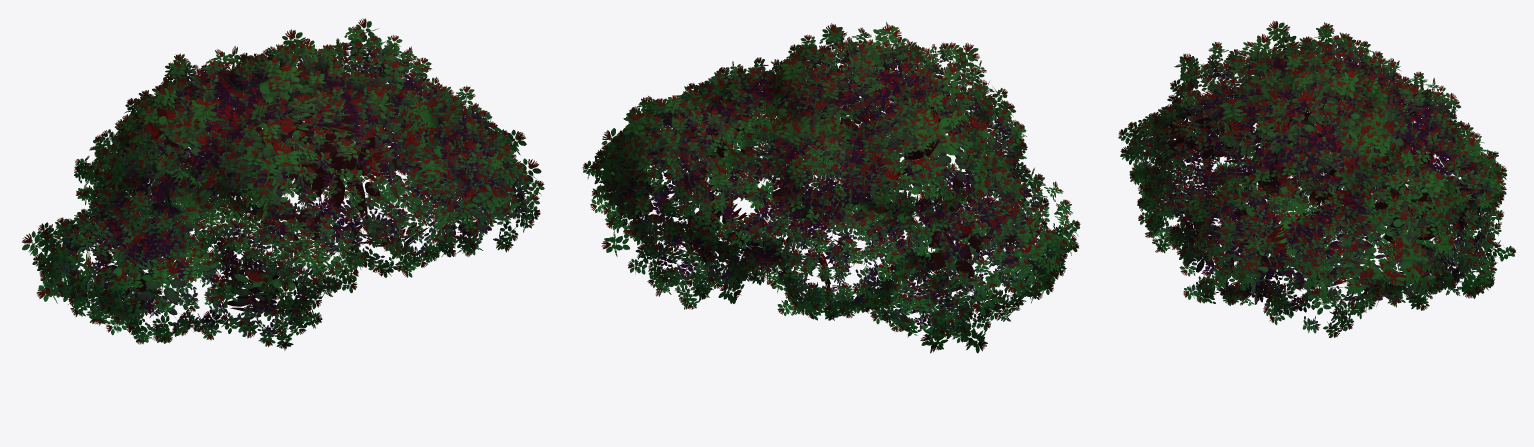
Rendered from trp_flame1.glb.
The picture shows the model from 3 angles, left to right: view 1: azimuth 30°, elevation 25°; view 2: azimuth 150°, elevation 25°; view 3: azimuth 270°, elevation 25°; orthographic projection. The views are drawn at different scales.
Visible parts, largest first — view 1: SM_Env_Tree_Pohutukawa_01_LOD0, SM_Env_Tree_Pohutukawa_01_Branches_LOD0; view 2: SM_Env_Tree_Pohutukawa_01_LOD0, SM_Env_Tree_Pohutukawa_01_Branches_LOD0; view 3: SM_Env_Tree_Pohutukawa_01_LOD0, SM_Env_Tree_Pohutukawa_01_Branches_LOD0.
Part boxes in pixels (x1,y1,x2,y2): SM_Env_Tree_Pohutukawa_01_LOD0: (22, 18, 544, 350); SM_Env_Tree_Pohutukawa_01_Branches_LOD0: (93, 84, 485, 319); SM_Env_Tree_Pohutukawa_01_LOD0: (582, 21, 1080, 353); SM_Env_Tree_Pohutukawa_01_Branches_LOD0: (621, 50, 1033, 305); SM_Env_Tree_Pohutukawa_01_LOD0: (1118, 20, 1515, 337); SM_Env_Tree_Pohutukawa_01_Branches_LOD0: (1169, 48, 1472, 289).
Size of what is drawn, in the model's own units: 9.44 by 7.33 by 7.39.
Materials: 1 (1 with a texture image).
